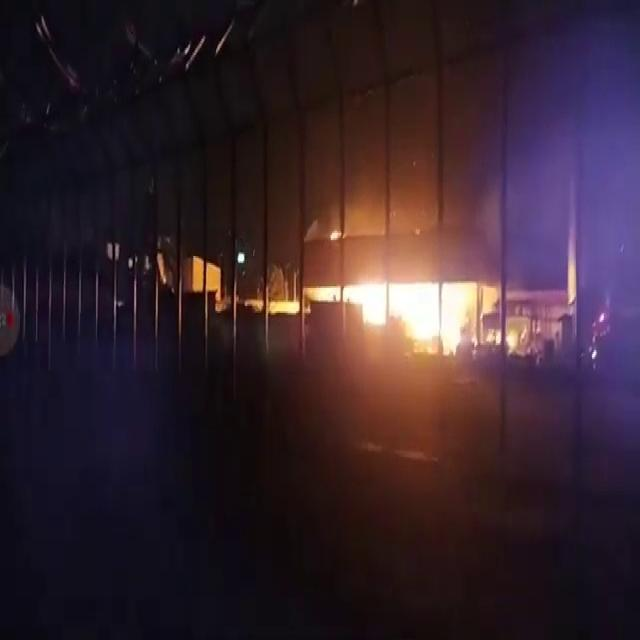Fire: (324, 280, 516, 356)
Smoke: (249, 19, 558, 248)
